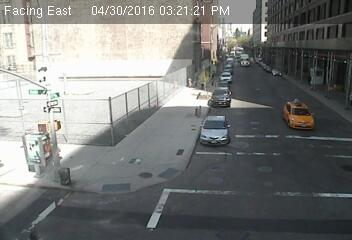neg: (3, 145, 45, 201), (82, 131, 111, 170), (50, 164, 78, 200), (68, 36, 94, 71), (234, 173, 260, 208), (222, 120, 247, 154), (185, 161, 209, 193), (145, 3, 168, 34), (77, 99, 99, 129), (155, 155, 177, 185), (150, 94, 172, 123), (287, 25, 307, 51), (287, 117, 305, 142), (65, 162, 83, 187), (157, 193, 175, 217), (244, 12, 262, 35), (318, 59, 335, 83), (39, 5, 56, 27), (228, 66, 244, 88), (156, 41, 172, 62), (188, 10, 203, 30), (126, 78, 141, 98), (112, 7, 126, 26), (132, 58, 145, 75), (175, 144, 184, 156), (121, 112, 129, 124)
pos: (199, 76, 209, 90), (185, 76, 194, 89), (206, 64, 214, 75)
